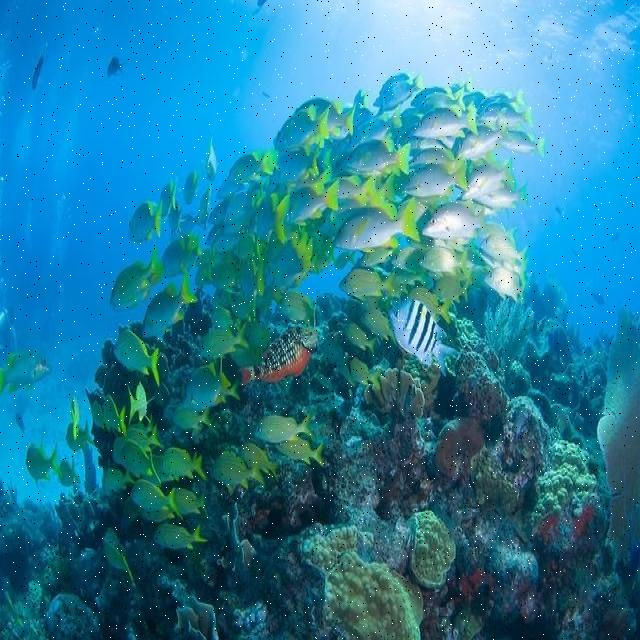aquatic plants: (487, 299, 534, 385)
fish: (389, 298, 457, 378), (238, 327, 319, 385), (332, 199, 420, 252), (143, 270, 198, 337), (111, 239, 165, 304), (273, 106, 331, 157), (261, 237, 313, 291), (184, 364, 242, 410), (113, 330, 159, 386), (421, 202, 486, 240), (212, 451, 267, 495), (344, 140, 411, 176), (402, 161, 467, 198), (411, 104, 476, 140), (455, 119, 508, 163), (285, 183, 338, 227), (351, 108, 405, 151), (130, 478, 185, 519), (298, 98, 354, 138), (372, 73, 425, 115), (270, 146, 321, 189), (461, 160, 516, 199), (339, 269, 400, 304), (0, 353, 51, 393), (255, 412, 313, 444), (225, 181, 269, 223), (118, 439, 160, 482), (161, 235, 204, 276), (113, 424, 159, 460), (476, 88, 526, 121), (480, 235, 528, 269), (484, 267, 528, 304), (257, 193, 289, 242), (201, 326, 250, 358), (158, 450, 210, 480), (238, 443, 279, 481), (419, 246, 470, 276), (500, 126, 547, 158), (104, 531, 134, 580), (154, 524, 208, 551), (228, 151, 272, 184), (411, 87, 466, 113), (276, 439, 325, 468), (411, 288, 452, 322), (410, 146, 465, 171), (128, 201, 161, 240), (485, 102, 534, 128), (345, 322, 376, 363), (25, 445, 59, 482), (474, 186, 528, 209), (276, 294, 313, 327), (337, 175, 378, 201), (351, 358, 382, 392), (174, 487, 207, 517), (390, 246, 425, 273), (434, 277, 470, 303), (240, 260, 264, 298), (173, 407, 212, 430), (102, 397, 126, 434), (363, 312, 393, 341), (230, 292, 258, 323), (66, 420, 95, 449), (234, 234, 265, 260), (56, 456, 81, 488), (128, 382, 147, 423), (216, 261, 242, 289), (104, 470, 134, 493), (357, 248, 393, 267), (159, 181, 179, 215), (213, 307, 241, 330), (212, 234, 242, 254), (208, 201, 230, 224), (198, 190, 211, 228), (214, 181, 241, 199), (184, 173, 199, 204), (168, 202, 182, 233), (205, 139, 215, 181), (71, 397, 80, 436)
reefs: (0, 242, 639, 639)
